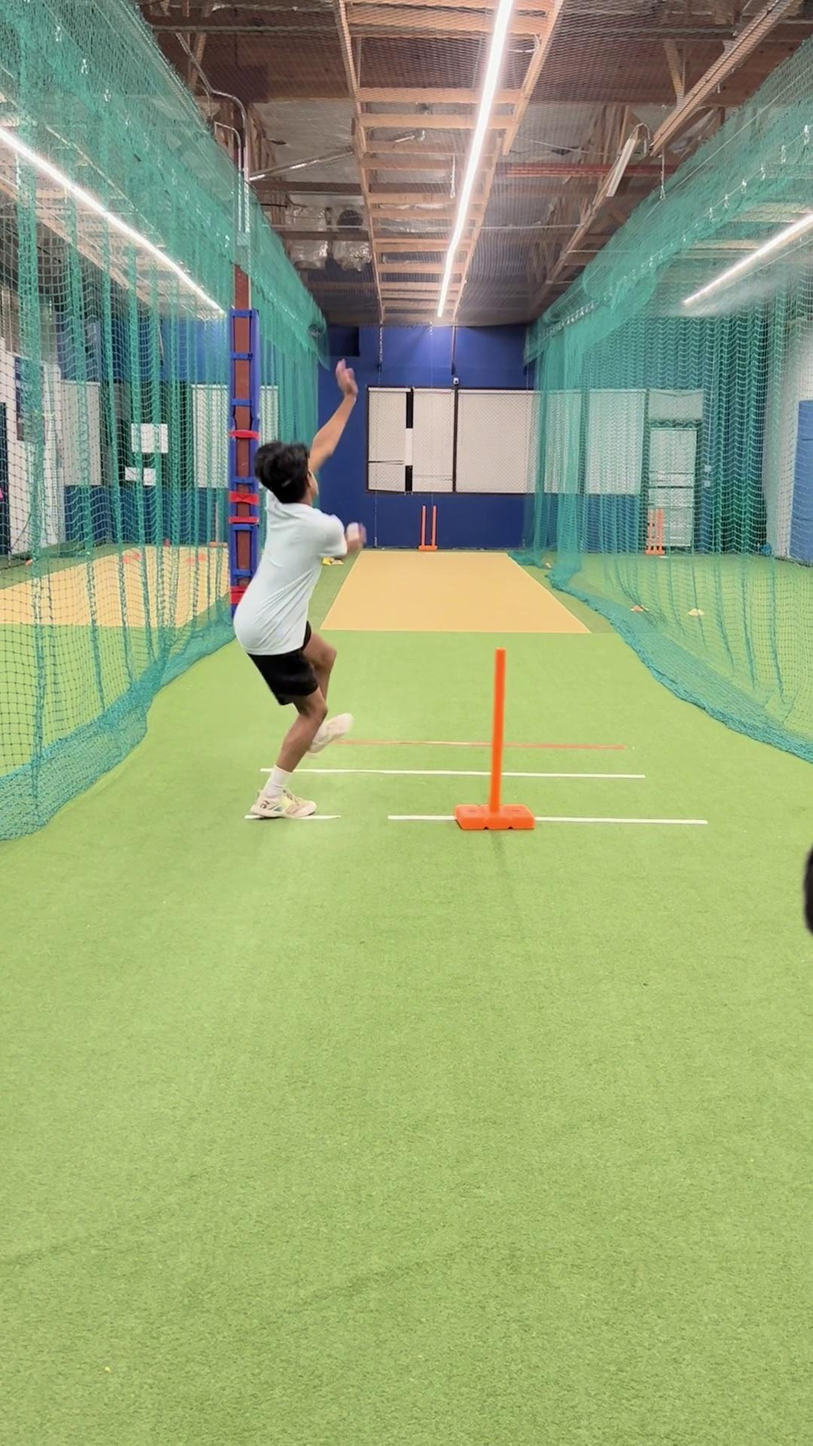ball: (343, 520, 366, 545)
